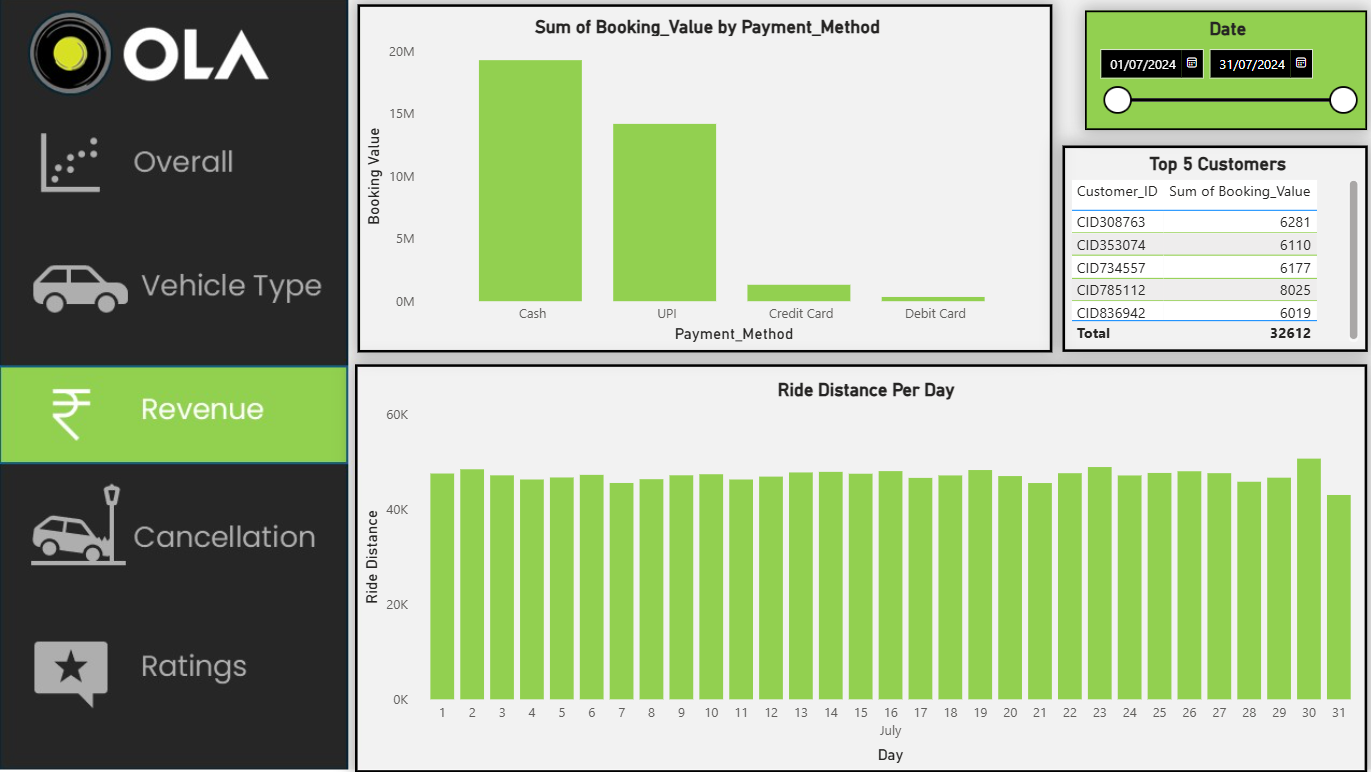

Layout of this report page (visuals, bound fields, positions):
{"tool":"powerbi","page":{"name":"Revenue","canvas":[1280,720],"ordinal":2},"visuals":[{"type":"actionButton","box":[1.1,108,323.9,92.4],"z":0},{"type":"actionButton","box":[0,221.5,323.9,92.4],"z":1000},{"type":"actionButton","box":[0,447.5,323.9,92.4],"z":2000},{"type":"actionButton","box":[1.1,583.3,323.9,92.4],"z":3000},{"type":"columnChart","fields":{"Category":["July.Payment_Method"],"Y":["Sum(July.Booking_Value)"]},"box":[332.1,5.5,646.3,323.8],"z":4000},{"type":"slicer","title":"Date","fields":{"Values":["July.Date"]},"box":[1009.7,11.1,262.7,111.3],"z":5000},{"type":"columnChart","title":"Ride Distance Per Day","fields":{"Y":["Sum(July.Ride_Distance)"],"Category":["July.Date.Variation.Date Hierarchy.Month","July.Date.Variation.Date Hierarchy.Day"]},"box":[330.7,340.3,941.3,380.1],"z":6000},{"type":"tableEx","title":"Top 5 Customers","fields":{"Values":["July.Customer_ID","Sum(July.Booking_Value)"]},"box":[988,137.2,284,192.1],"z":7000}]}

Visuals, with their boxes in screenshot pixels (x1, y1, x2, y2), scaled from the page's 1280x720 canvas onto the 1371x772 screenshot:
actionButton: region(1, 116, 348, 215)
actionButton: region(0, 237, 347, 337)
actionButton: region(0, 480, 347, 579)
actionButton: region(1, 625, 348, 725)
columnChart - July.Payment_Method x Sum(July.Booking_Value): region(356, 6, 1048, 353)
"Date" slicer: region(1081, 12, 1363, 131)
"Ride Distance Per Day" columnChart: region(354, 365, 1362, 771)
"Top 5 Customers" tableEx: region(1058, 147, 1362, 353)
